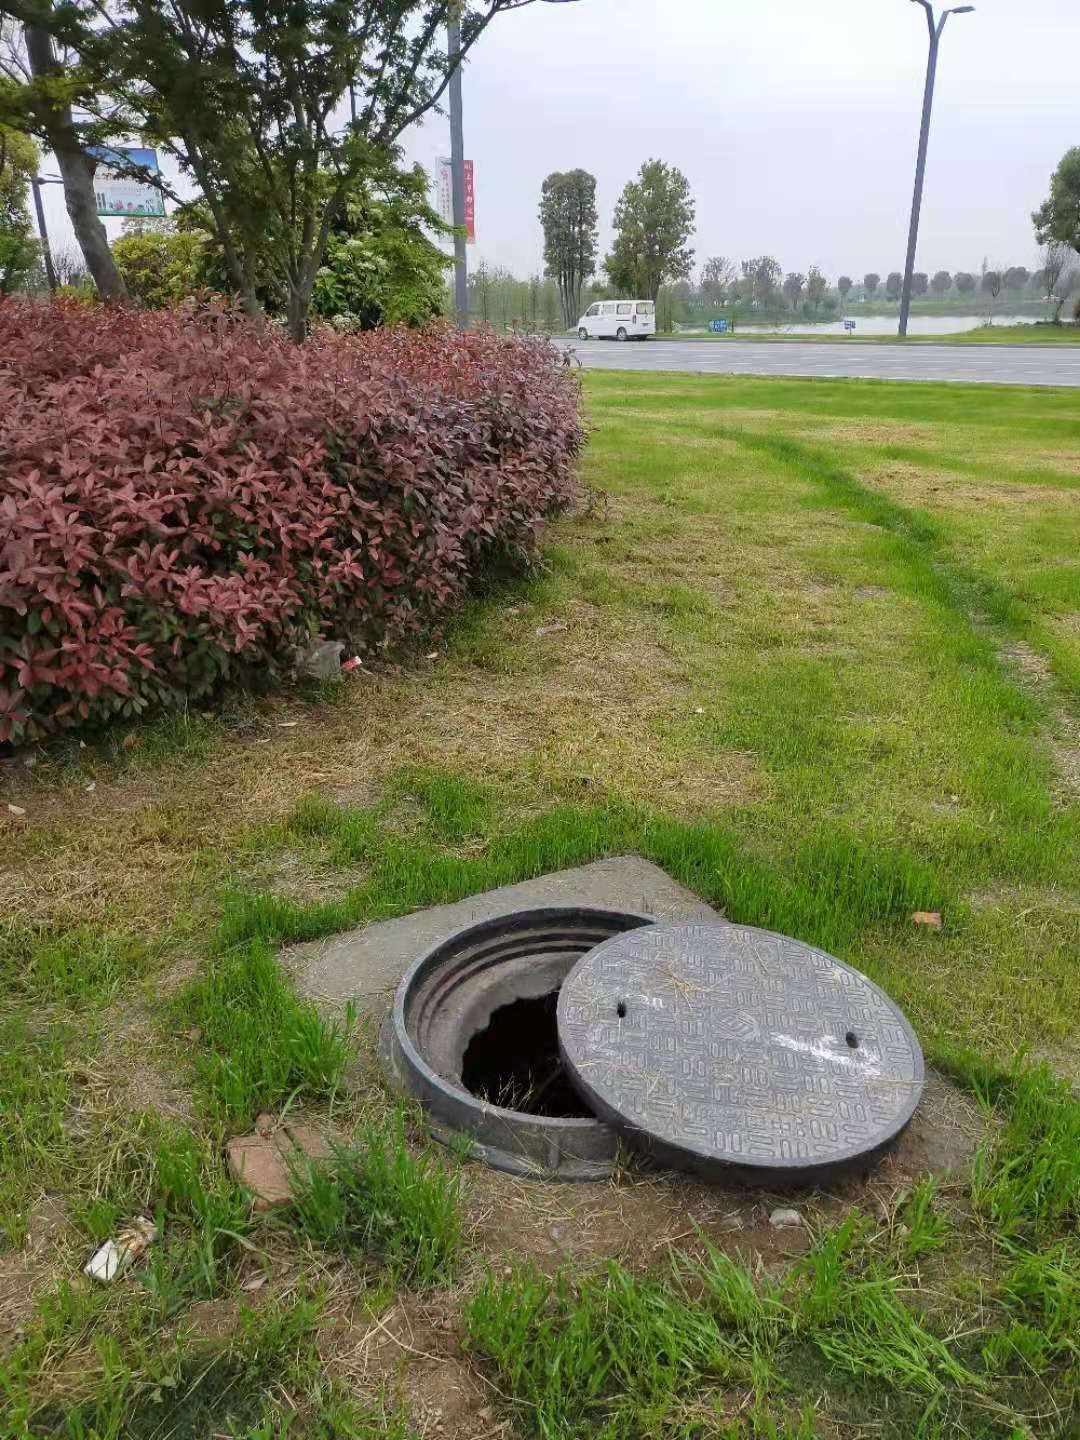uncovered: (379, 903, 923, 1180)
